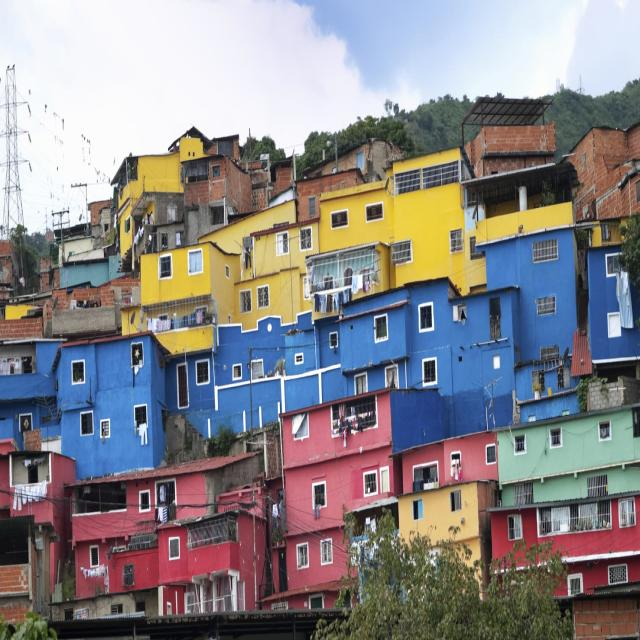Fachada: (293, 148, 486, 320), (337, 277, 532, 435), (280, 392, 399, 607), (152, 453, 270, 615), (49, 332, 166, 479), (165, 316, 292, 437), (491, 494, 640, 594), (497, 407, 640, 507), (111, 127, 212, 257), (485, 230, 576, 360), (136, 242, 239, 354), (72, 478, 158, 599), (233, 223, 317, 328), (399, 482, 497, 566), (182, 135, 254, 238), (0, 340, 62, 447), (397, 431, 498, 494), (587, 247, 640, 364), (297, 139, 401, 187)
